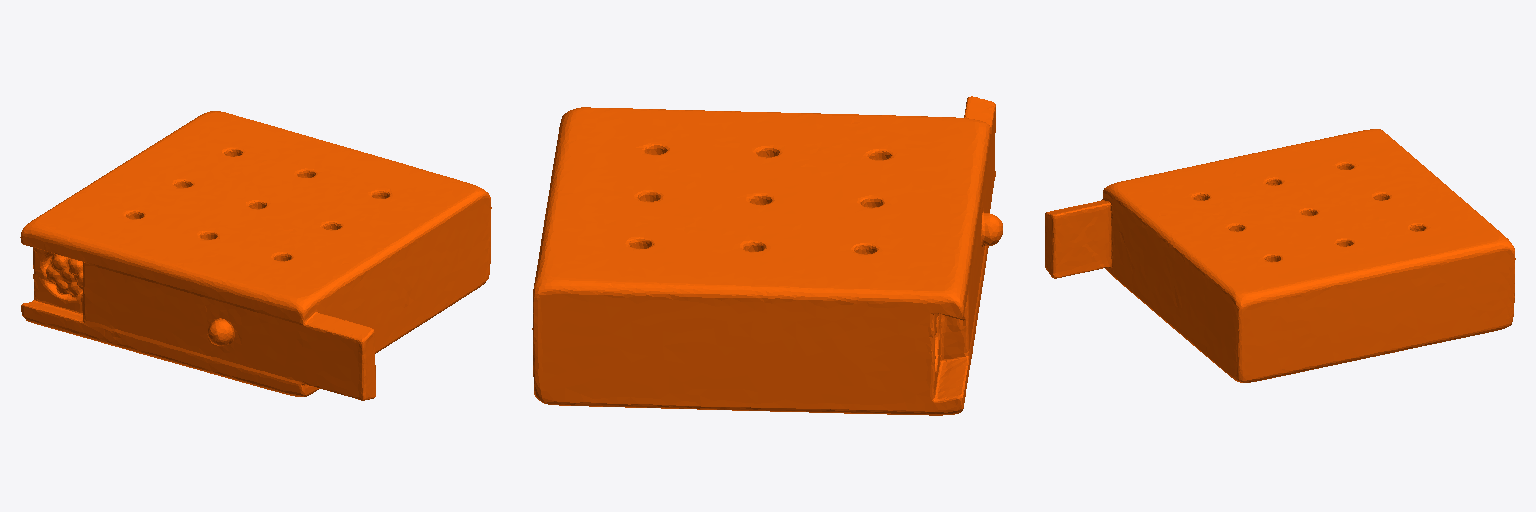
The robot description file, URDF, robot "071_nine_hole_peg_test":
<?xml version="1.0" ?>
<robot name="071_nine_hole_peg_test">
   <material name="obj_color">
      <color rgba="1.0 0.423529411765 0.0392156862745 1.0"/>
   </material>
   <link name="top">
      <inertial>
         <origin rpy="0.001695944519998289 0.001876907027776729 0.003245045183521378" xyz="0.01061005026907352 0.004173188857611533 -0.004492736013245431"/>
         <mass value="1.228108425942879"/>
         <inertia ixx="0.001868546832484393" ixy="-3.79918227823857e-05" ixz="1.130609259146884e-06" iyy="0.001704314377585469" iyz="-3.635816275285542e-06" izz="0.003245035521226536"/>
      </inertial>
      <visual>
         <origin rpy="0 0 0" xyz="0 0 0"/>
         <geometry>
            <mesh filename="top_watertight_tiny.stl" scale="1 1 1"/>
         </geometry>
         <material name="obj_color"/>
      </visual>
      <collision>
         <origin rpy="0 0 0" xyz="0 0 0"/>
         <geometry>
            <mesh filename="top_watertight_tiny.obj" scale="1 1 1"/>
         </geometry>
      </collision>
   </link>
   <link name="bottom">
      <inertial>
         <origin rpy="1.633333333199431e-08 1.633333333199431e-08 1.633333333362855e-08" xyz="0.3464080000000008 0.3464080000000008 0.3464080000000008"/>
         <mass value="0.0009800000000000017"/>
         <inertia ixx="1.633333333253906e-08" ixy="5.447480642029219e-19" ixz="5.447480642029219e-19" iyy="1.633333333253906e-08" iyz="5.447480642029219e-19" izz="1.633333333253906e-08"/>
      </inertial>
      <visual>
         <origin rpy="0 0 0" xyz="0 0 0"/>
         <geometry>
            <mesh filename="bottom_watertight_tiny.stl" scale="1 1 1"/>
         </geometry>
         <material name="obj_color"/>
      </visual>
   </link>
   <joint name="rotation" type="revolute">
      <origin xyz="0 0 0"/>
      <axis xyz="0 0 -1"/>
      <parent link="bottom"/>
      <child link="top"/>
      <dynamics damping="1.0" friction="1.0"/>
      <limit effort="0.1" velocity="0.1" lower="0" upper="0.001"/>
   </joint>
</robot>

--- Facts derived from the render (not from the file) ---
3 views of the same robot in one strip: view 1: azimuth 30°, elevation 25°; view 2: azimuth 150°, elevation 25°; view 3: azimuth 270°, elevation 25° (orthographic).
Model 071_nine_hole_peg_test with 2 links and 1 joints (1 revolute), rooted at bottom, posed every joint at zero.
Links seen in each view (by area): view 1: top; view 2: top; view 3: top.
Link boxes in pixels (x1,y1,x2,y2): top: (20,111,491,400); top: (532,96,1002,415); top: (1045,129,1515,382).
Bounding box of the posed robot: 0.1675 × 0.1911 × 0.0407 m (x, y, z).
1 mesh visuals loaded from 2 distinct referenced files (1 binary STL); not drawn: 1 (reference not matched to a file when rendering).
